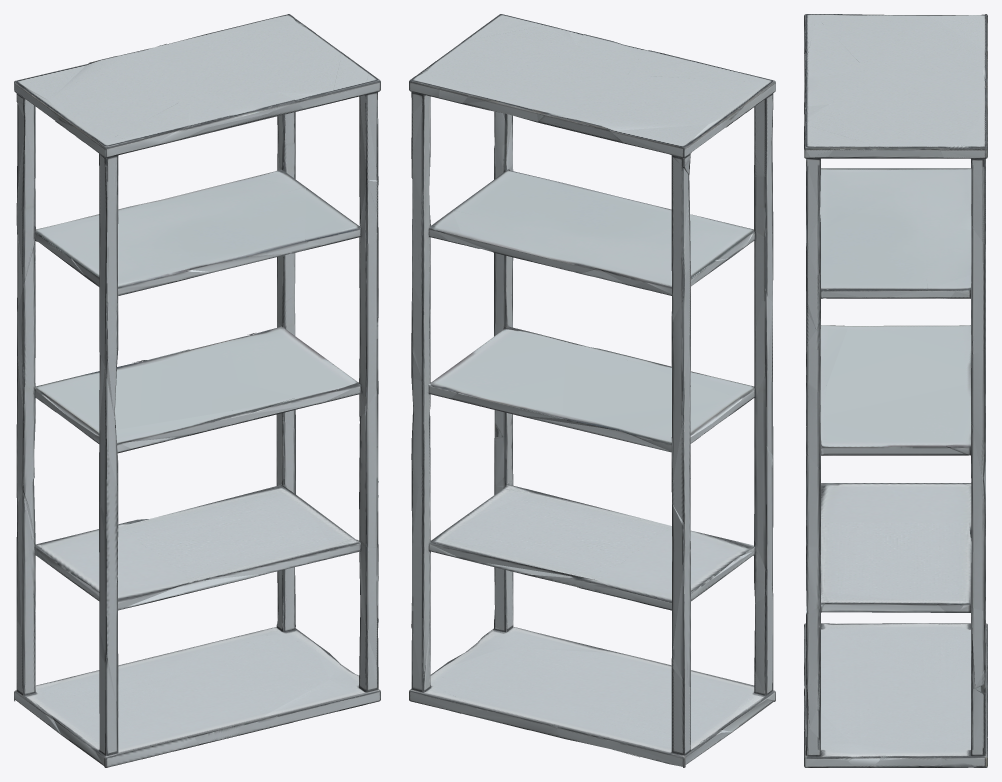
Rendered from raw_greenhouse_cabinet.glb.
3 renders of one model, left to right at view 1: azimuth 30°, elevation 25°; view 2: azimuth 150°, elevation 25°; view 3: azimuth 270°, elevation 25°, orthographic.
Size of the model in its own units: 0.8859 by 1.9 by 0.511.
1 material, 1 textured.
